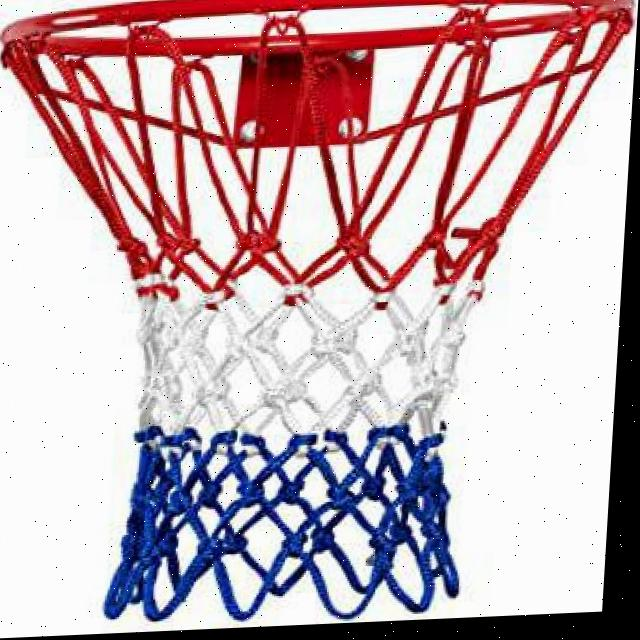hoop: (0, 0, 639, 636)
